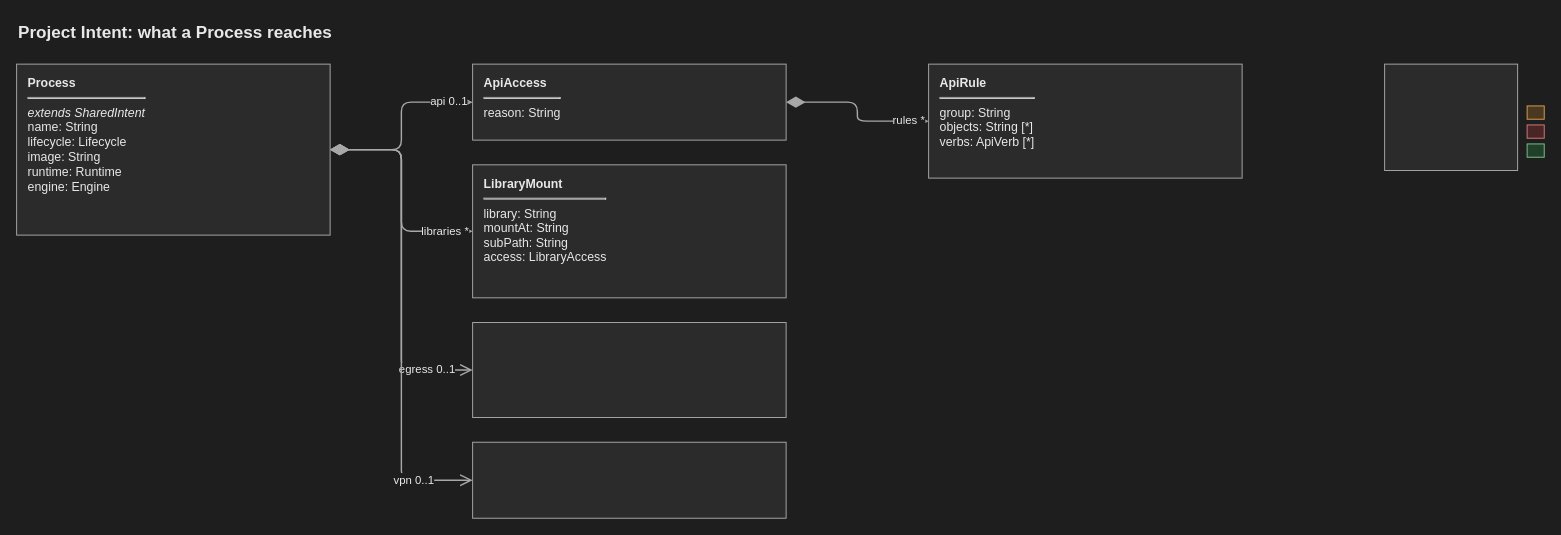
The diagram is 1561 pixels wide and 535 high, and some of its shapes have lost their labels. Here are the shapes that lost their labels. From the top down, the box of each, then its label:
(1384, 63, 1518, 171): Legend carried over changed removed new
(472, 322, 786, 418): Egress to: EgressTarget reason: String
(472, 441, 786, 518): VpnAttachment forwardedPort: BoolObject
